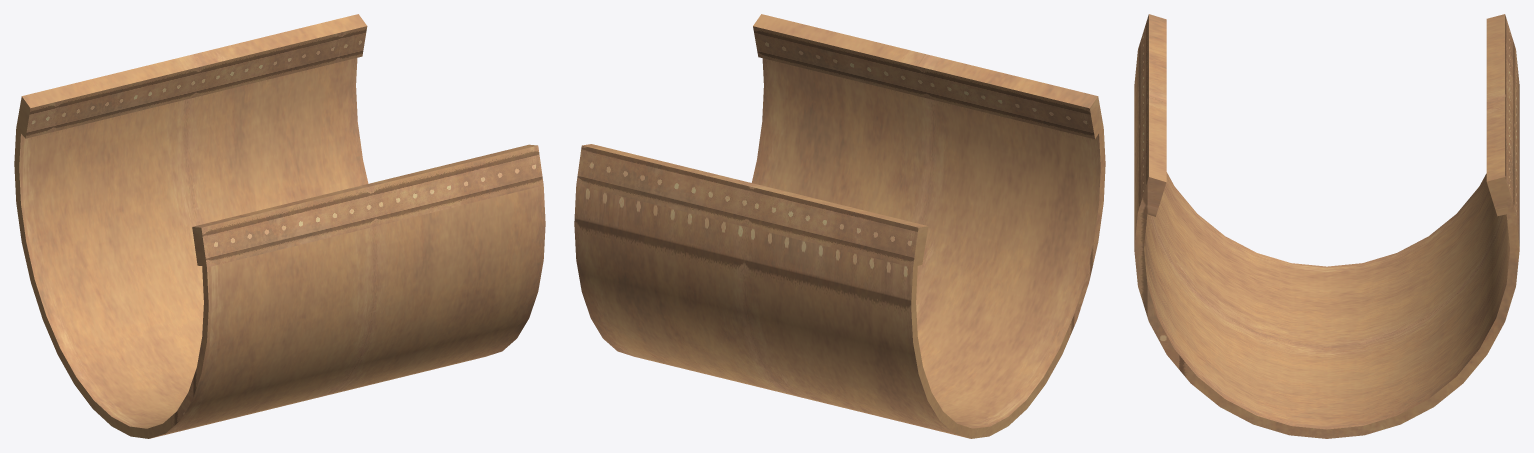
The model's file is Small_Wall_A.003.fbx.
3 renders of one model, left to right at view 1: azimuth 30°, elevation 25°; view 2: azimuth 150°, elevation 25°; view 3: azimuth 270°, elevation 25°, orthographic.
Visible parts, largest first — view 1: Small_Wall_A.003; view 2: Small_Wall_A.003; view 3: Small_Wall_A.003.
Boxes of the visible parts, x1,y1,x2,y2 form: Small_Wall_A.003: [14, 14, 545, 438]; Small_Wall_A.003: [574, 14, 1105, 438]; Small_Wall_A.003: [1134, 14, 1519, 438].
Size of the model in its own units: 4.01 by 3 by 4.
